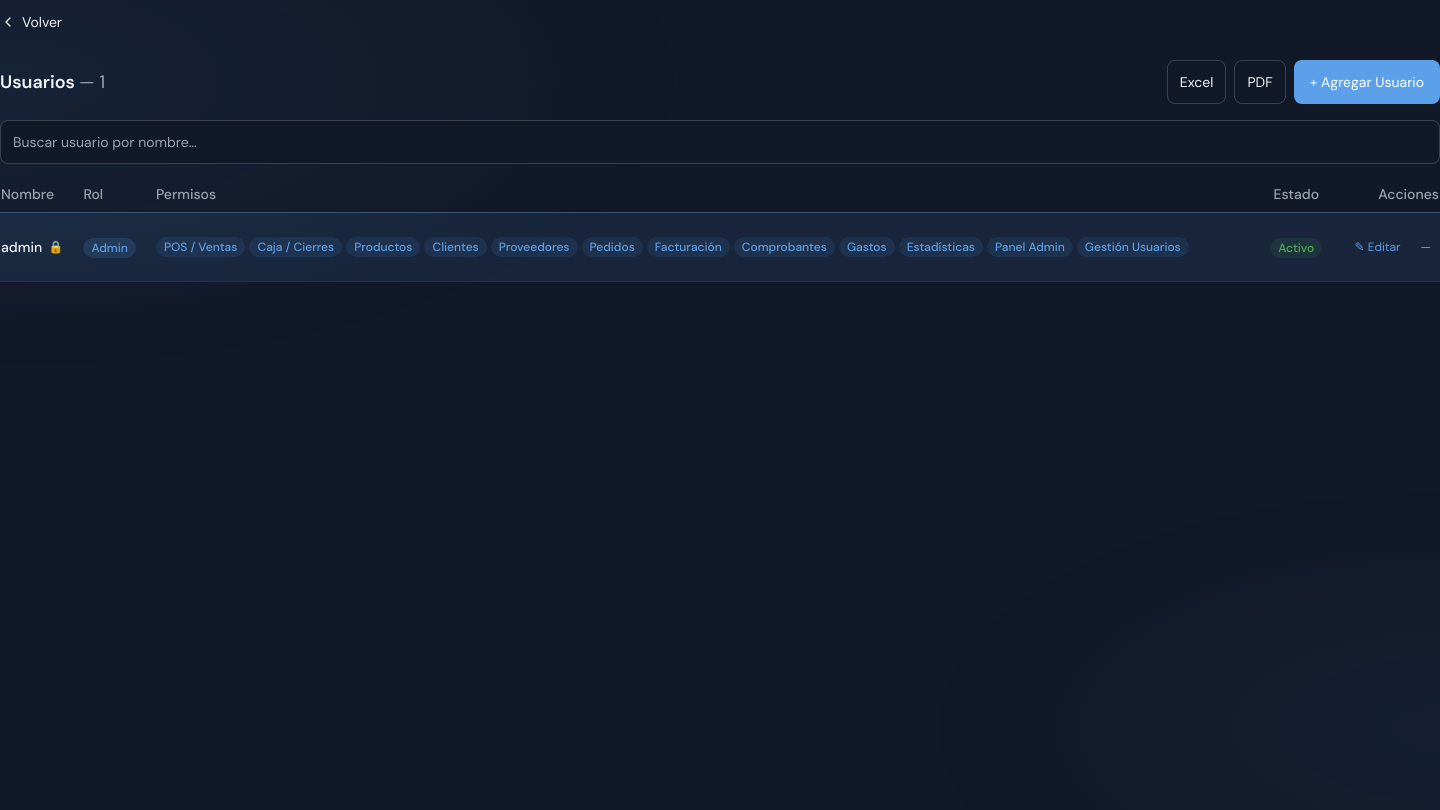
Test case: UserManagementPage › opens edit modal when clicking edit button
Click the button with aria-label "editar admin". click: x=1377, y=247
box: [1346,225,1408,269]
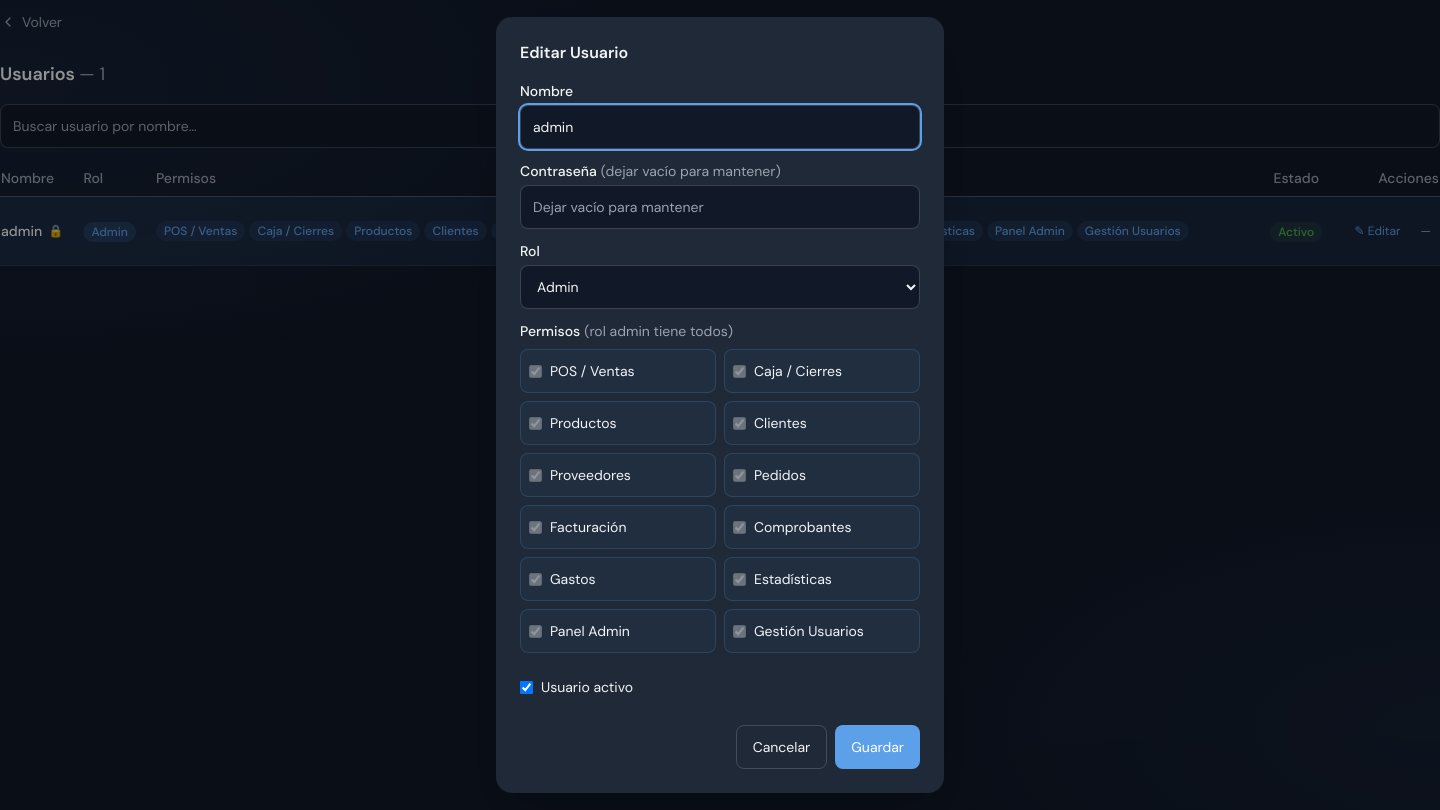
Expected: the heading "Editar Usuario" is shown, [520,42,628,63]
Expected: the field showing "admin" is shown, [520,105,920,149]
